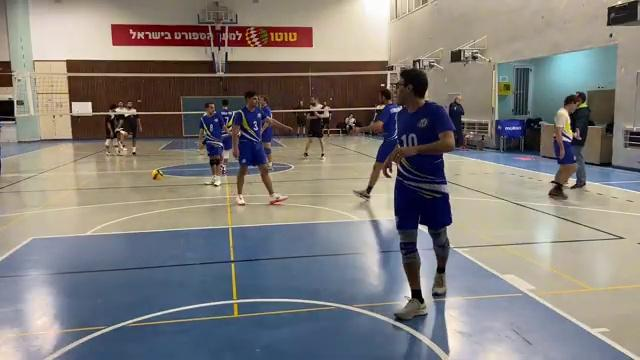ball: (148, 167, 166, 181)
